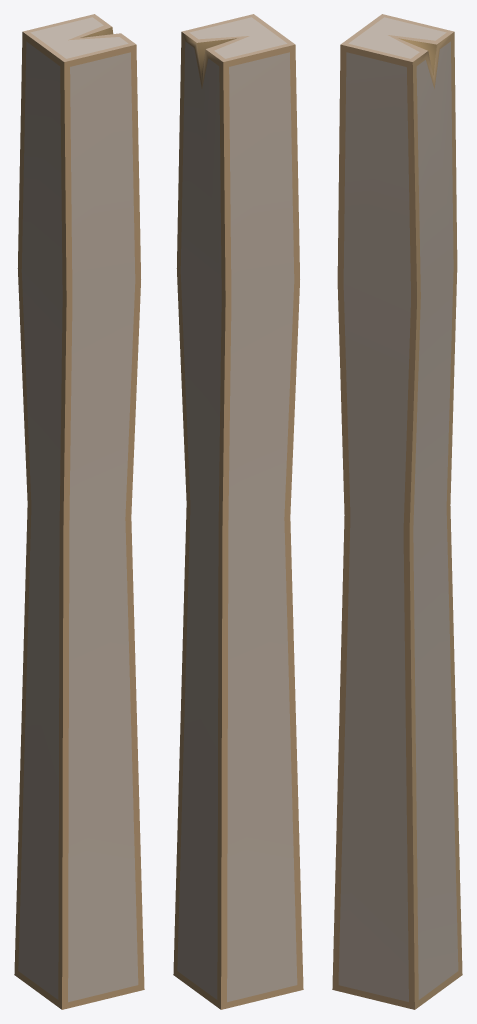
Rendered from SmallBeam_0.glb.
3 renders of one model, left to right at view 1: azimuth 30°, elevation 25°; view 2: azimuth 210°, elevation 25°; view 3: azimuth 330°, elevation 25°, orthographic.
Visible parts, largest first — view 1: SmallBeam; view 2: SmallBeam; view 3: SmallBeam.
Boxes of the visible parts, x1,y1,x2,y2 form: SmallBeam: [14, 14, 144, 1009]; SmallBeam: [173, 14, 303, 1009]; SmallBeam: [332, 14, 462, 1009].
Size of the model in its own units: 0.449 by 4.91 by 0.449.
